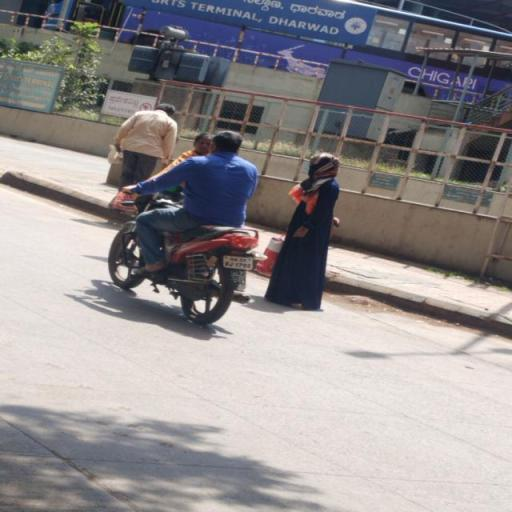bike: (106, 126, 272, 327)
numberplate: (223, 253, 256, 272)
withouthelmet: (214, 130, 244, 153)
